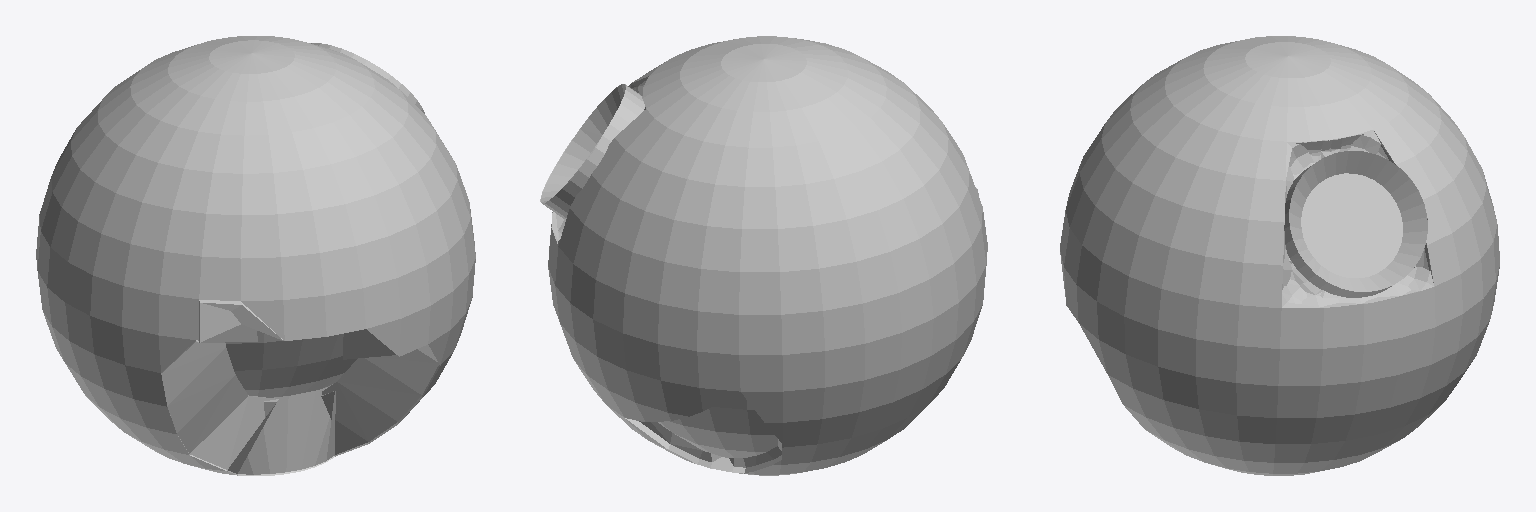
The model's file is death_star.obj.
The picture shows the model from 3 angles: view 1: azimuth 30°, elevation 25°; view 2: azimuth 150°, elevation 25°; view 3: azimuth 270°, elevation 25°; orthographic projection.
Visible parts, largest first — view 1: Sphere; view 2: Sphere; view 3: Sphere.
Part boxes in pixels (x1,y1,x2,y2): Sphere: (36, 36, 475, 475); Sphere: (540, 36, 987, 475); Sphere: (1060, 36, 1499, 475).
Size of the model in its own units: 12 by 11.99 by 11.99.